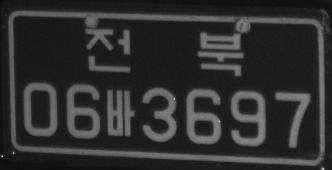0: (23, 80, 57, 135)
3: (141, 86, 177, 142)
6: (185, 87, 221, 144), (65, 82, 101, 138)
7: (273, 90, 311, 149)
9: (229, 88, 267, 147)
바: (106, 88, 135, 136)
전북_D: (85, 27, 244, 76)
